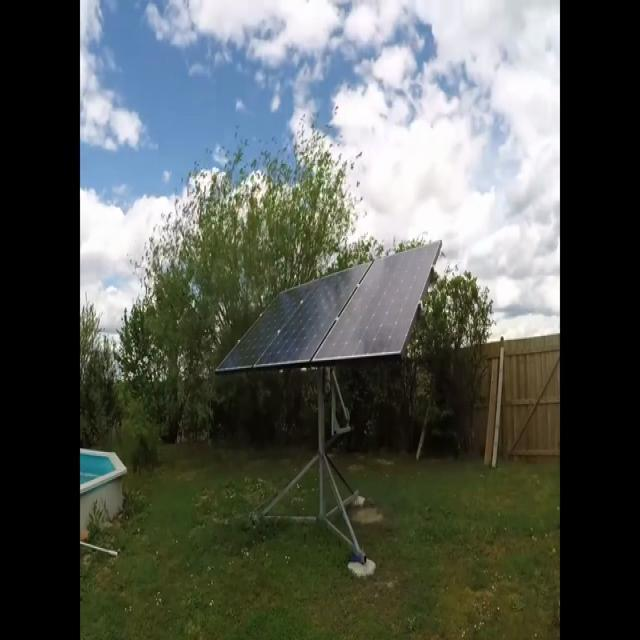Normal Solar Panel: (313, 242, 440, 359), (254, 262, 370, 366), (216, 280, 319, 370)
